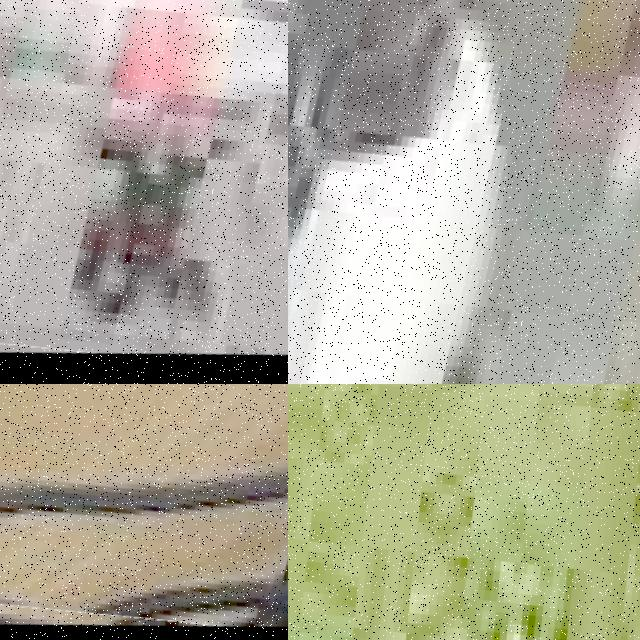drone: (288, 0, 640, 384), (0, 0, 288, 384), (0, 384, 288, 640)
